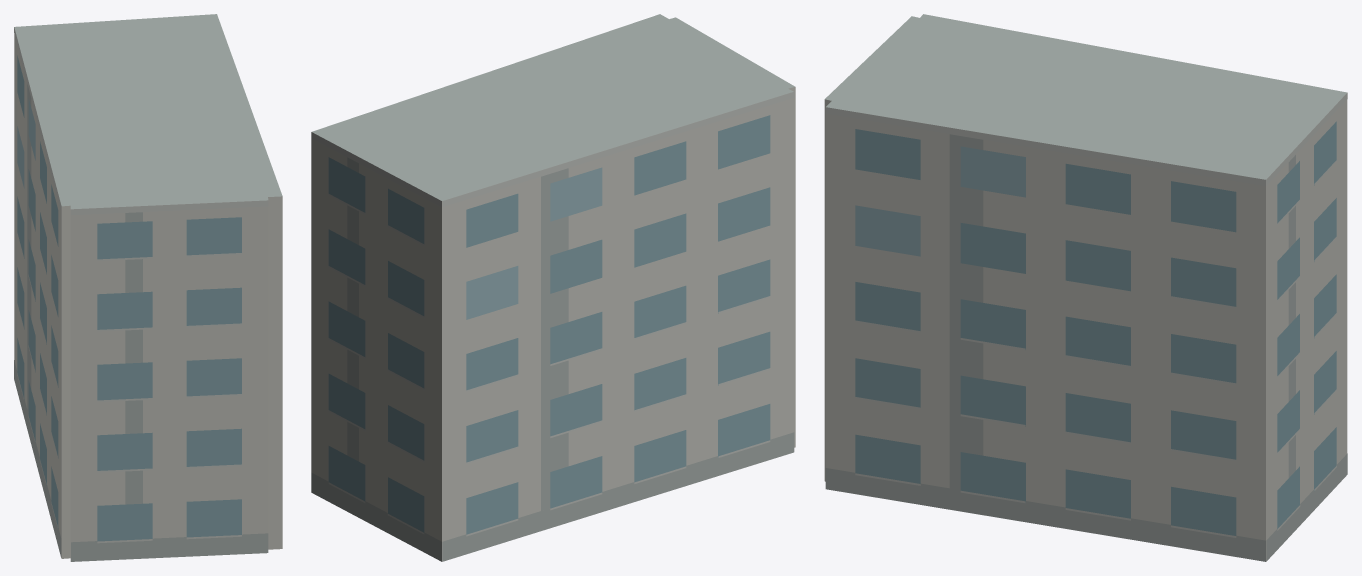
File: survey-upis-32524031.glb
3 views of the same model, side by side, from view 1: azimuth 30°, elevation 25°; view 2: azimuth 150°, elevation 25°; view 3: azimuth 270°, elevation 25° (orthographic). The views are drawn at different scales.
Parts seen in each view (by area): view 1: survey-upis-32524031.tmp; view 2: survey-upis-32524031.tmp; view 3: survey-upis-32524031.tmp.
Part boxes in pixels (<box>): survey-upis-32524031.tmp: <box>14,14,282,561</box>; survey-upis-32524031.tmp: <box>311,14,795,561</box>; survey-upis-32524031.tmp: <box>824,14,1347,561</box>.
Bounding box in the file's own units: 13.04 × 14 × 17.38.
